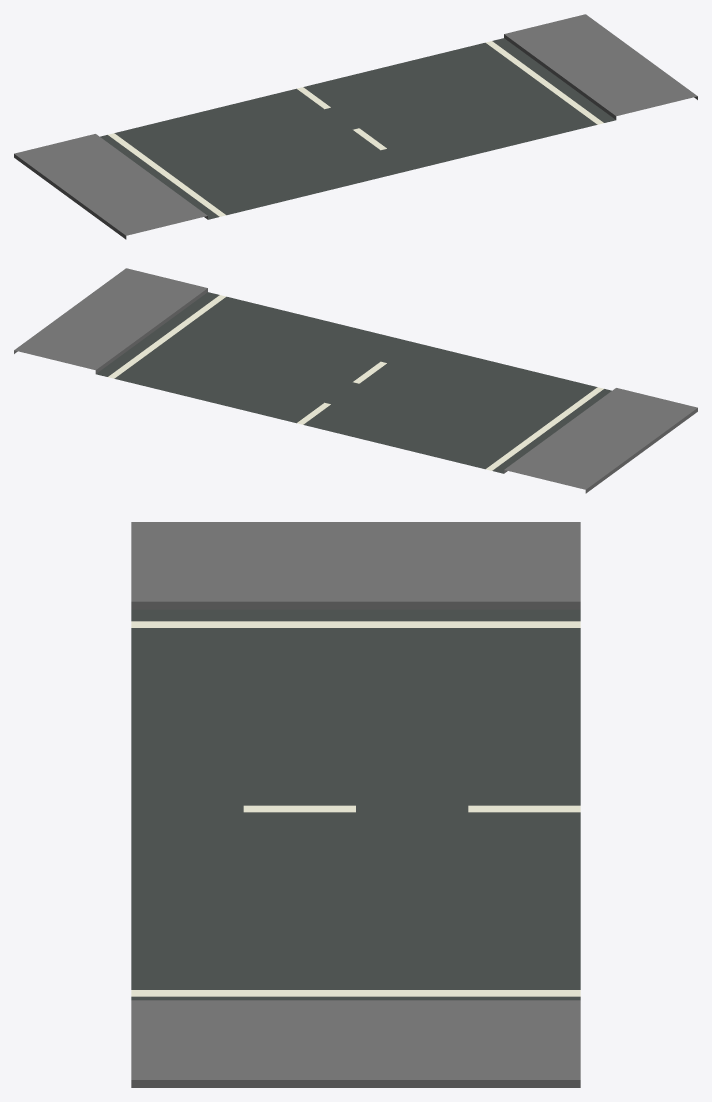
The model's file is Road_3.fbx.
3 renders of one model, top to bottom at view 1: azimuth 30°, elevation 25°; view 2: azimuth 150°, elevation 25°; view 3: azimuth 270°, elevation 25°, orthographic. The views are drawn at different scales.
Visible parts, largest first — view 1: Road_3; view 2: Road_3; view 3: Road_3.
Boxes of the visible parts, x1=… form: Road_3: x1=14, y1=14, x2=697, y2=239; Road_3: x1=14, y1=268, x2=697, y2=493; Road_3: x1=131, y1=522, x2=580, y2=1087.
Size of the model in its own units: 29.4 by 0.1948 by 10.
1 material, 1 textured.
